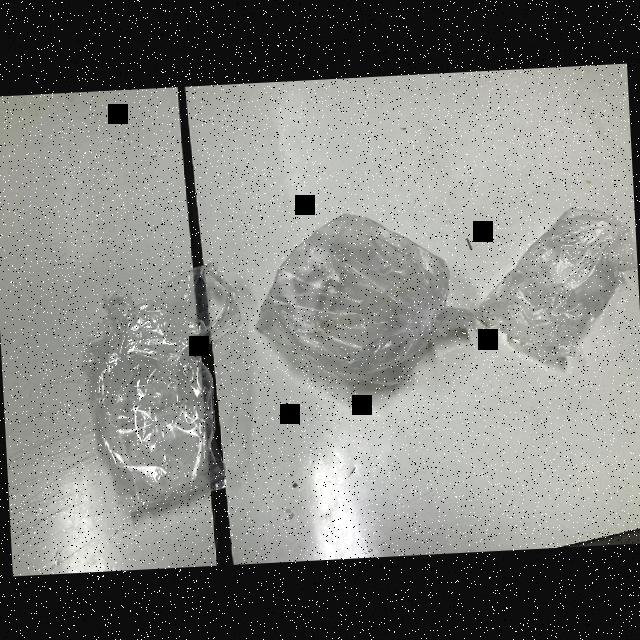plastic_bag: (248, 195, 478, 404), (70, 268, 250, 519), (471, 204, 640, 367)
